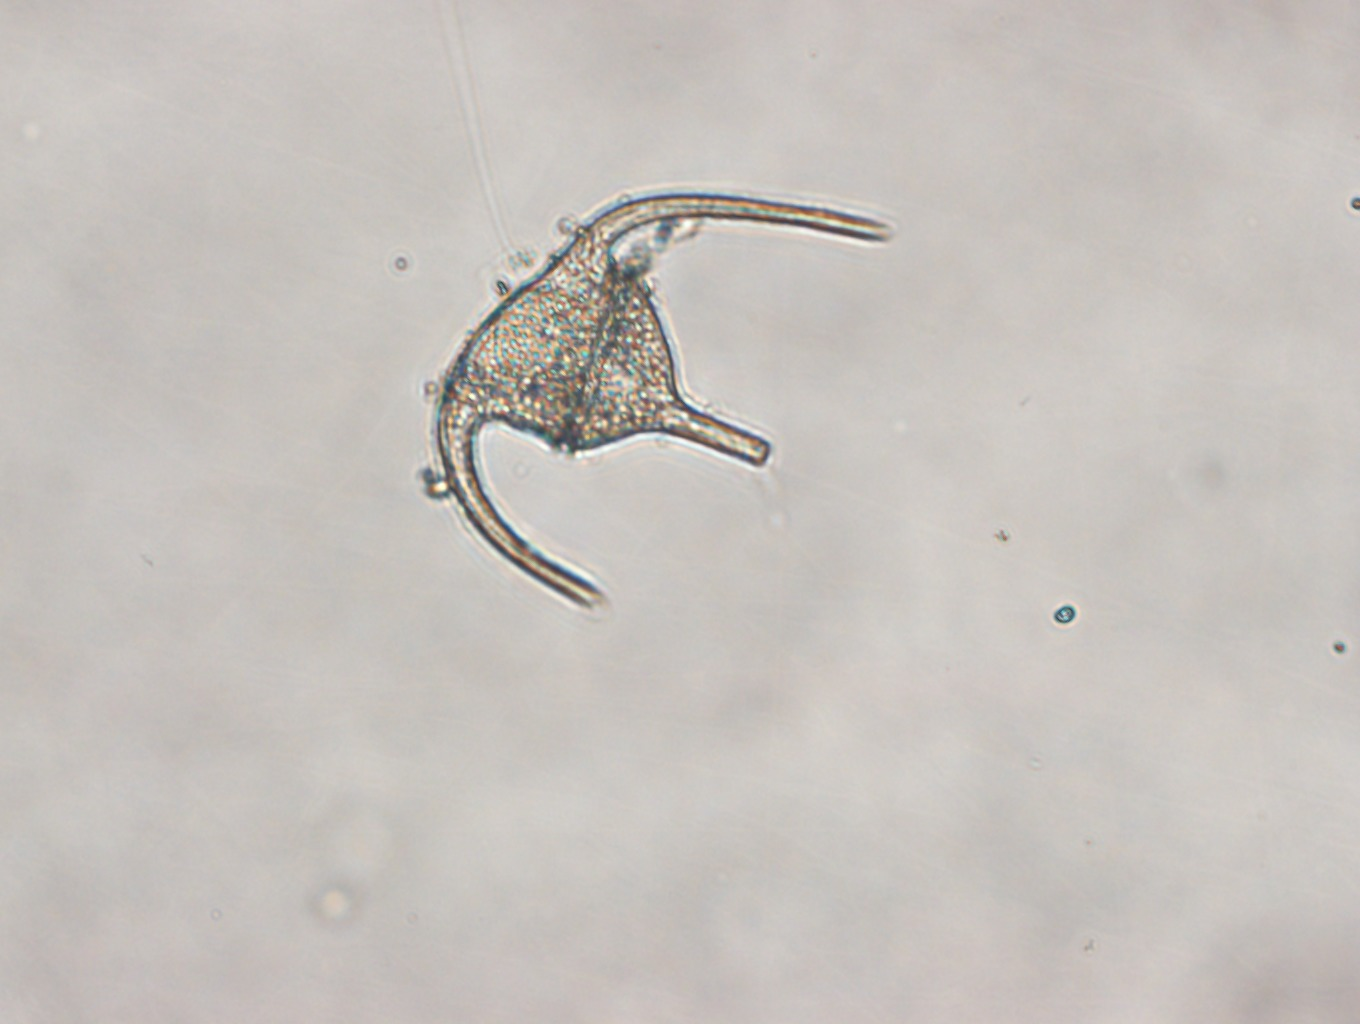ceratium tripos: (435, 184, 893, 611)
